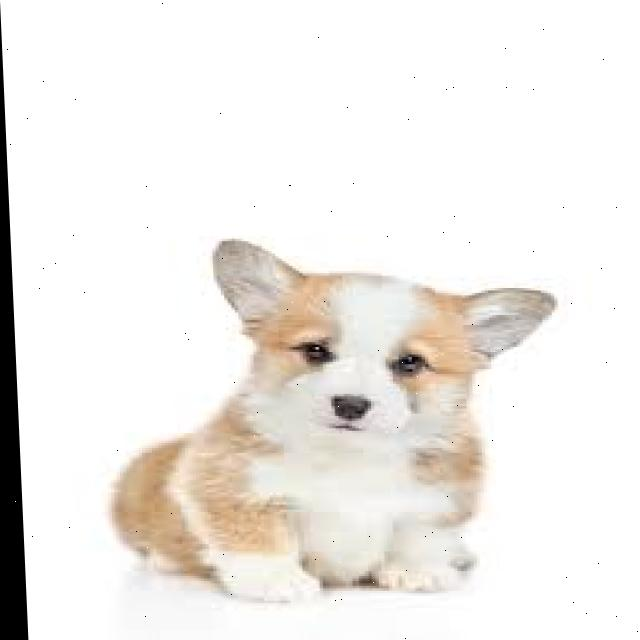CORGI: (48, 228, 578, 609)
